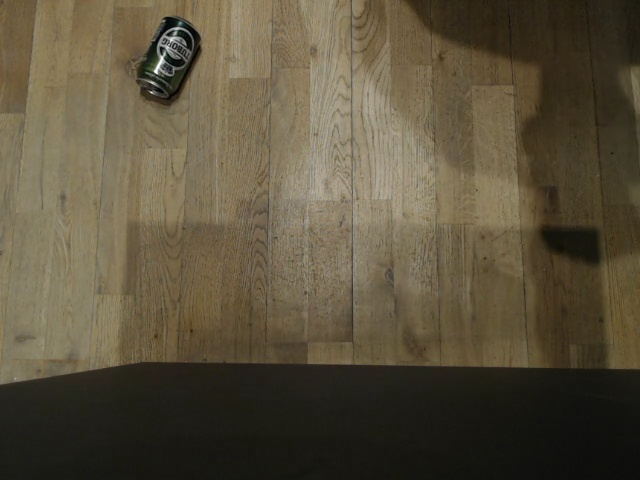beer: (134, 15, 203, 101)
